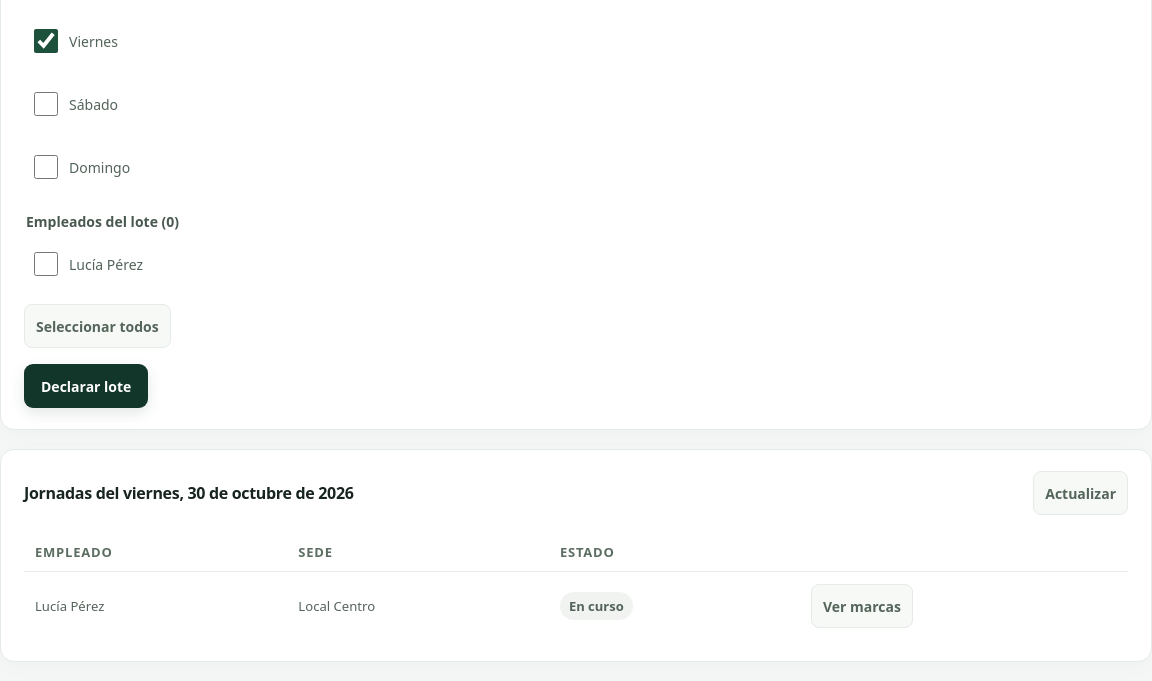
Test: historial de cambios de una jornada (issue #60) › distingue un fallo de carga del historial vacío y permite reintentar
(page scrolled)
What coordinates should you click on to do the following:
click the button "Ver marcas"
I would click on:
 (862, 606)
Its box is [811,584,913,628].
(page scrolled)
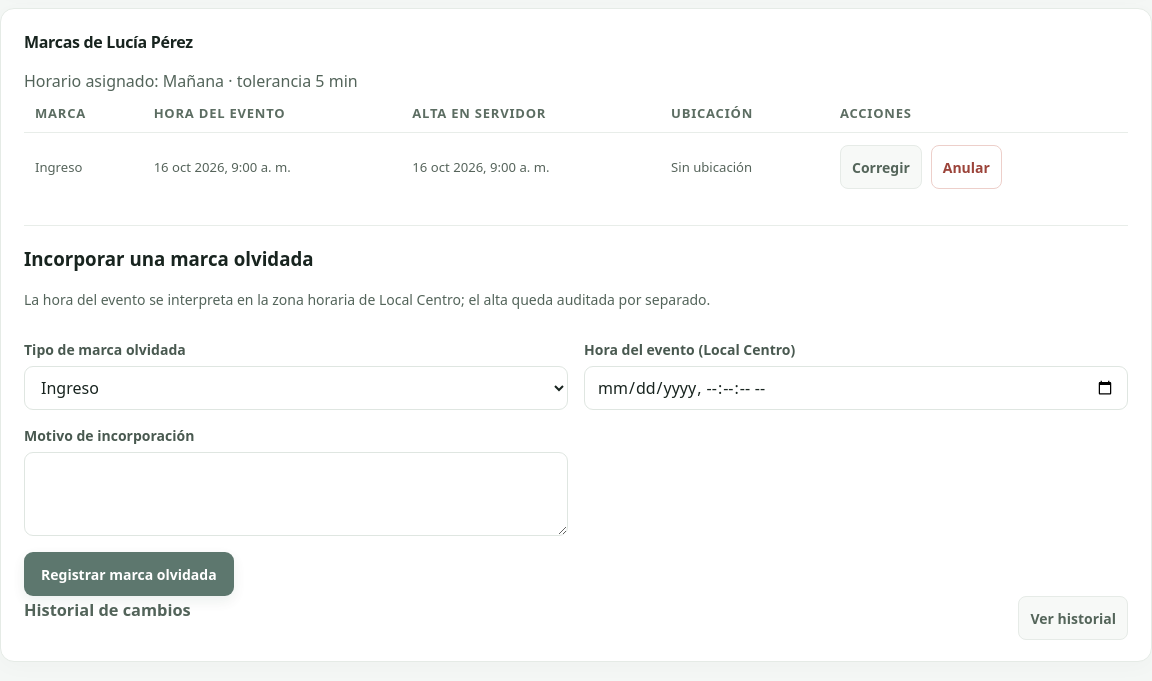
What coordinates should you click on to do the following:
click the button "Ver historial"
I would click on:
 (1073, 618)
Its box is [1018,596,1128,640].
(page scrolled)
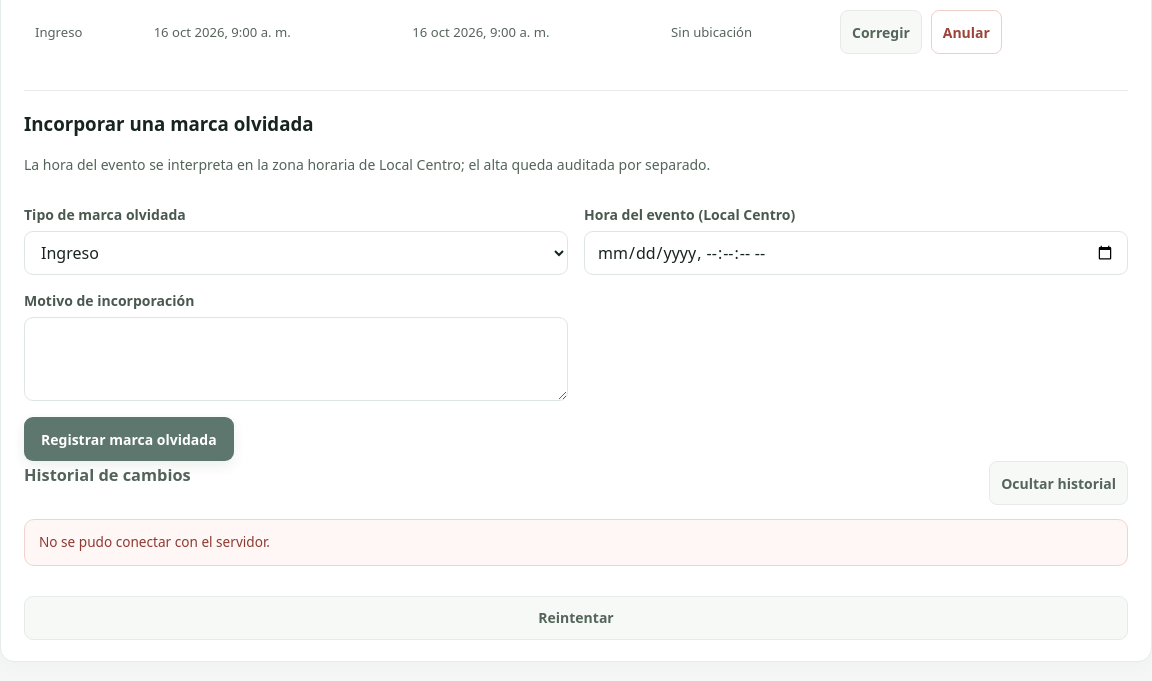
Expected: the text "No se pudo conectar con el servidor." is shown, [24,519,1128,566]
What coordinates should you click on to do the following:
click the button "Reintentar"
I would click on:
 (576, 618)
Its box is [24,596,1128,640].
(page scrolled)
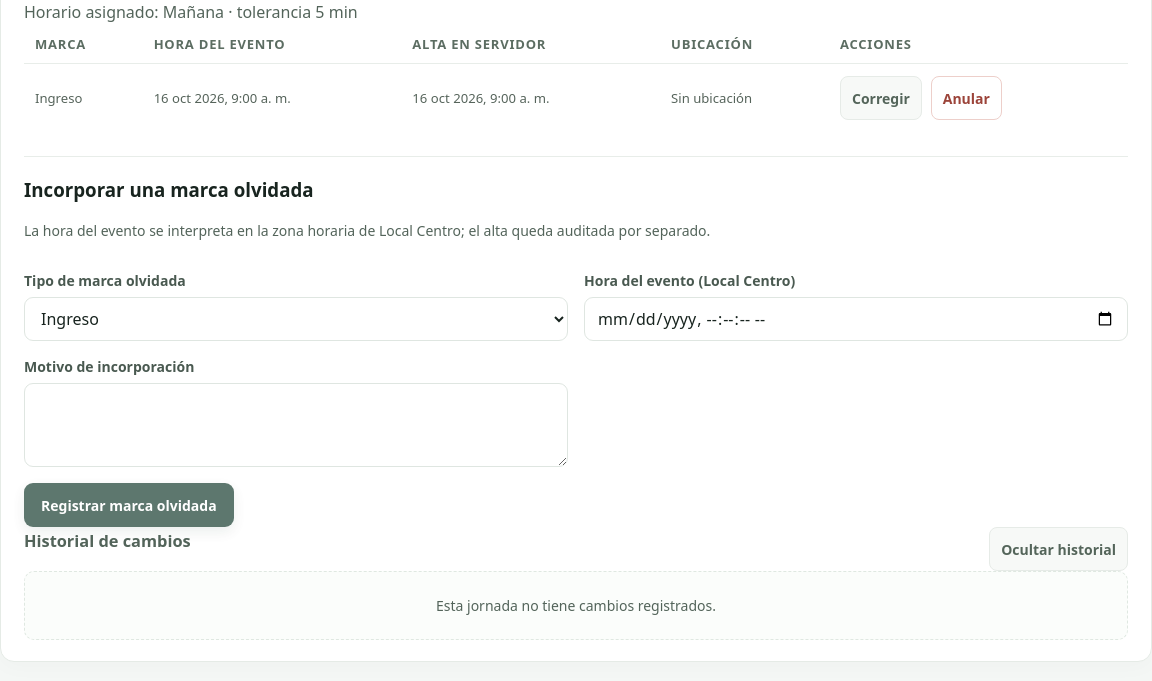
Expected: the text "Esta jornada no tiene cambios registrados." is shown, [24,571,1128,640]
